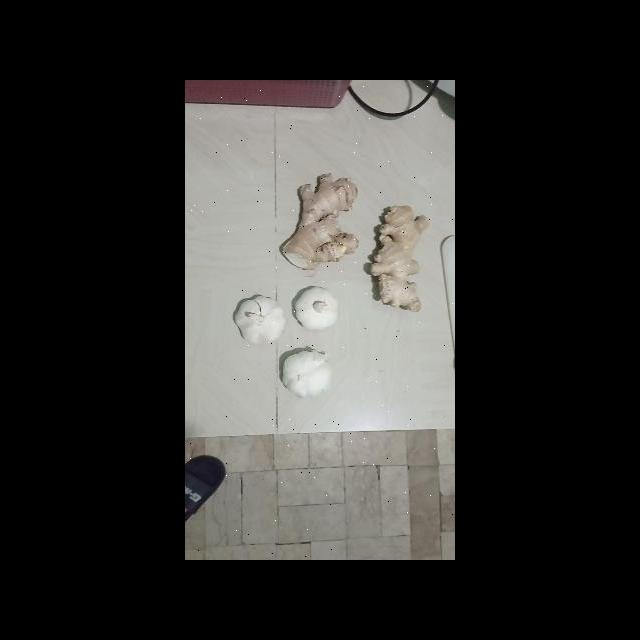garlic: (238, 292, 288, 347), (283, 348, 336, 396), (292, 284, 340, 330)
ginger: (277, 168, 362, 273), (367, 200, 432, 308)
